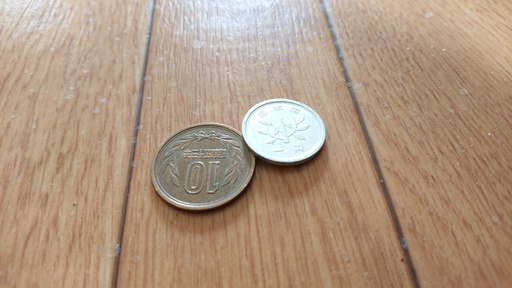10yen: (150, 122, 255, 212)
1yen: (241, 98, 325, 165)
